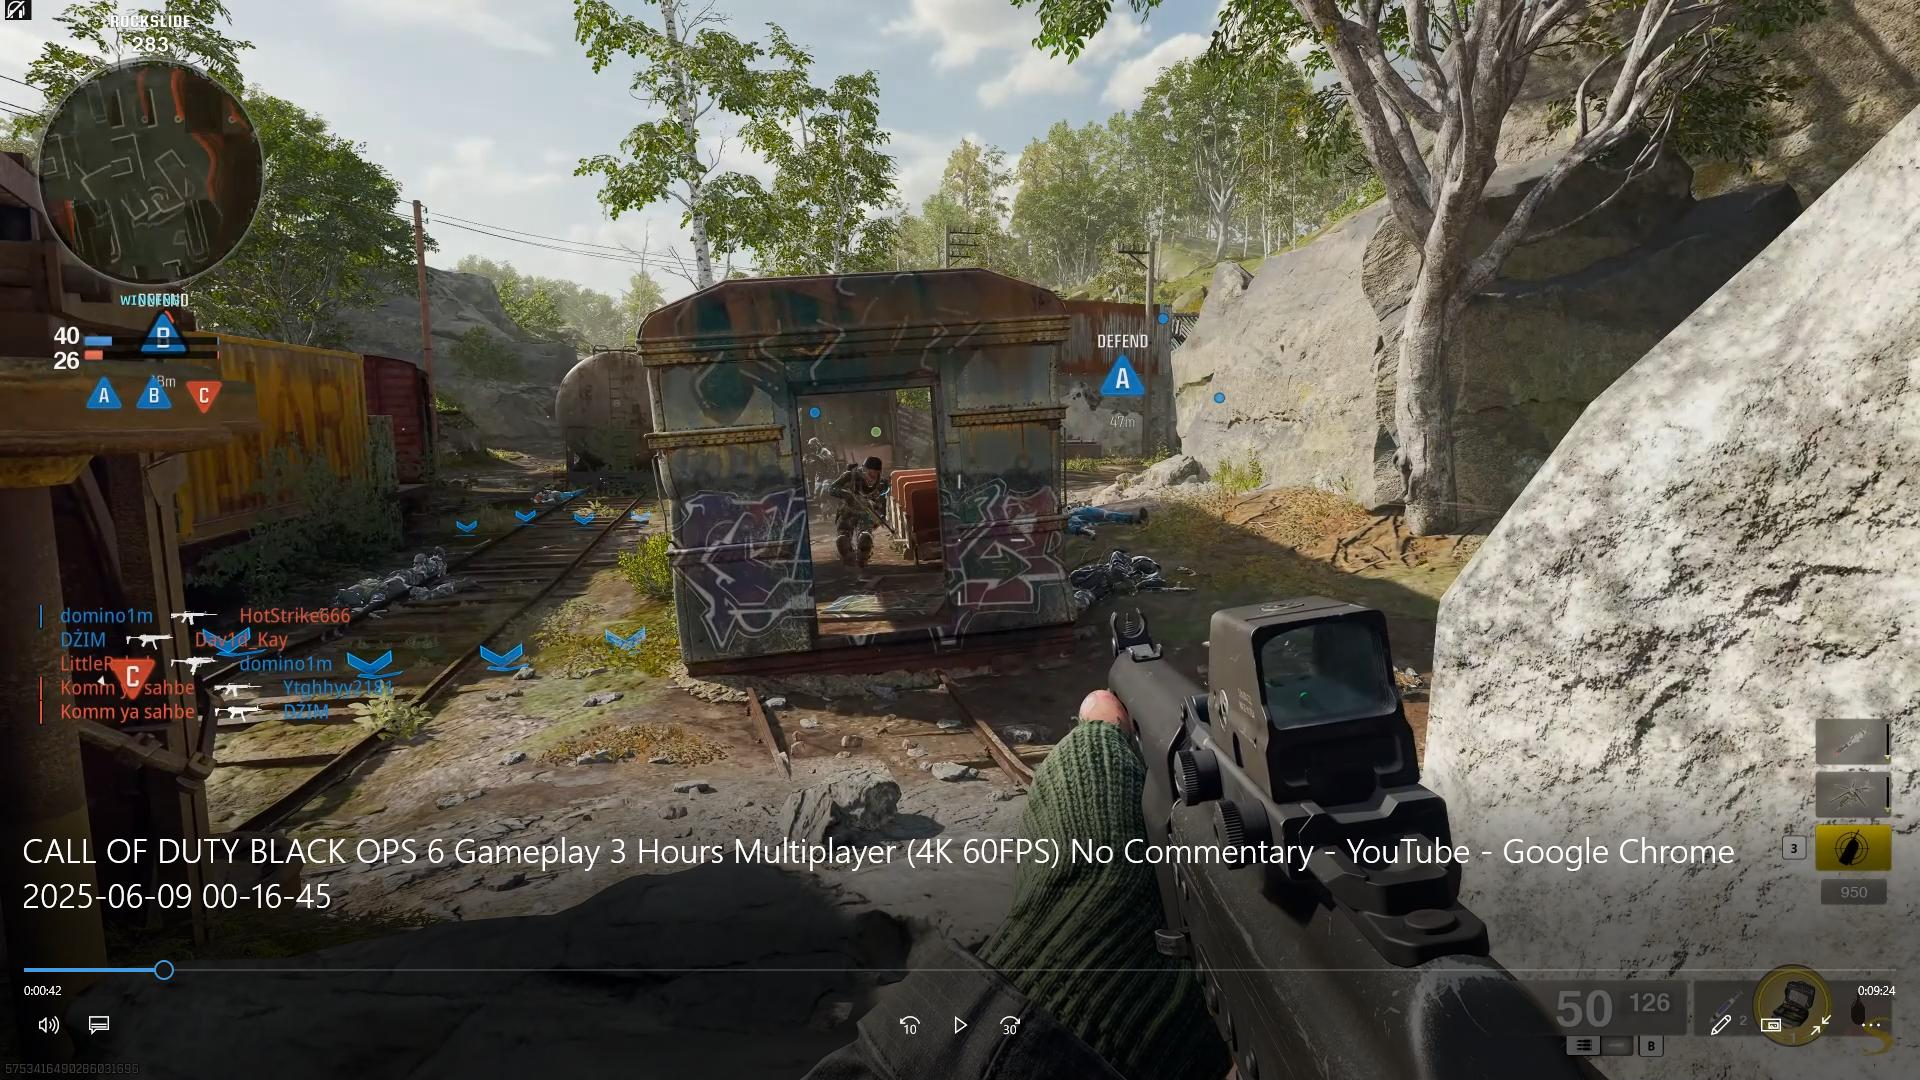Enemy: (836, 447, 887, 566), (803, 431, 833, 512)
